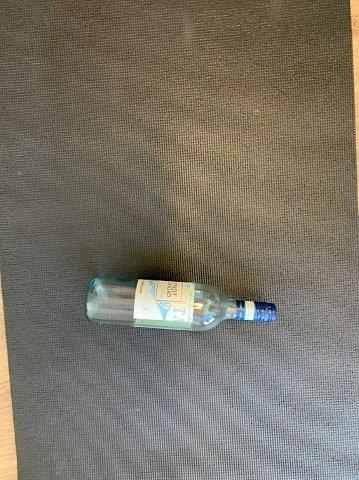botolkaca: (85, 276, 277, 331)
